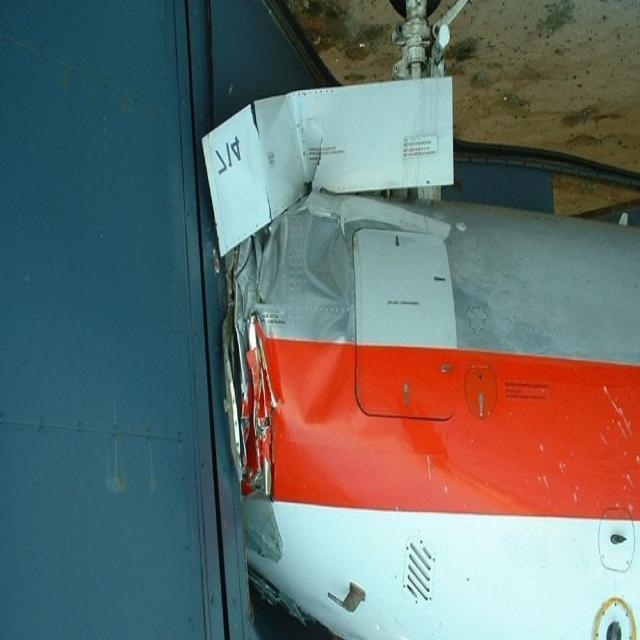dent: (296, 209, 358, 434)
